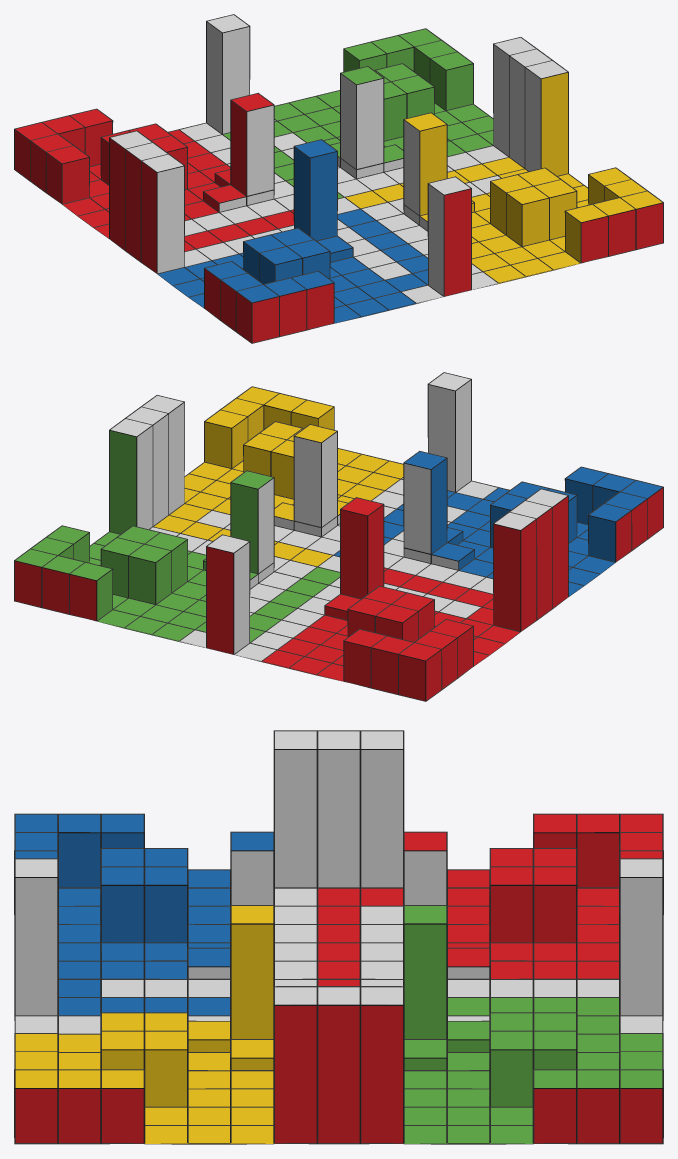
Rendered from map.fbx.
3 views of the same model, one above another, from view 1: azimuth 30°, elevation 25°; view 2: azimuth 150°, elevation 25°; view 3: azimuth 270°, elevation 25° (orthographic). The views are drawn at different scales.
Parts seen in each view (by area): view 1: Plane, Plane.001; view 2: Plane, Plane.001; view 3: Plane, Plane.001.
Boxes of the visible parts, x1=… form: Plane: x1=15, y1=15, x2=662, y2=342; Plane.001: x1=14, y1=14, x2=663, y2=343; Plane: x1=15, y1=373, x2=662, y2=700; Plane.001: x1=14, y1=372, x2=663, y2=701; Plane: x1=15, y1=731, x2=662, y2=1143; Plane.001: x1=14, y1=730, x2=663, y2=1144.
Size of the model in its own units: 1504 by 358 by 1504.
